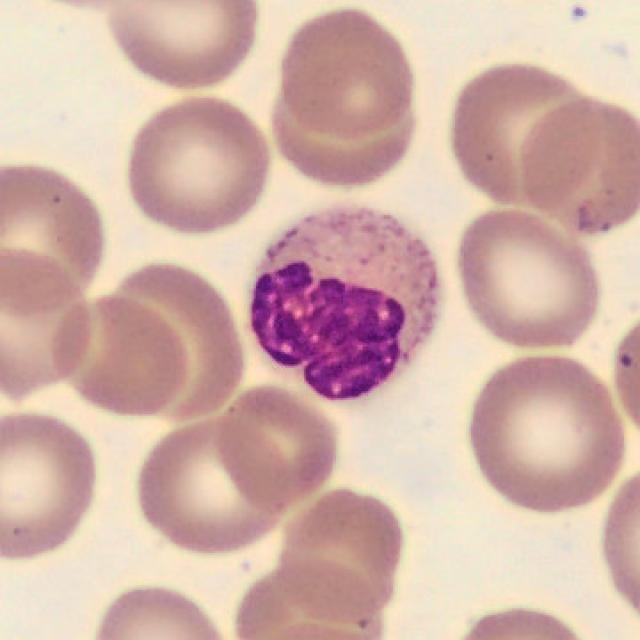Neutrofilo segmentado: (251, 208, 436, 398)
